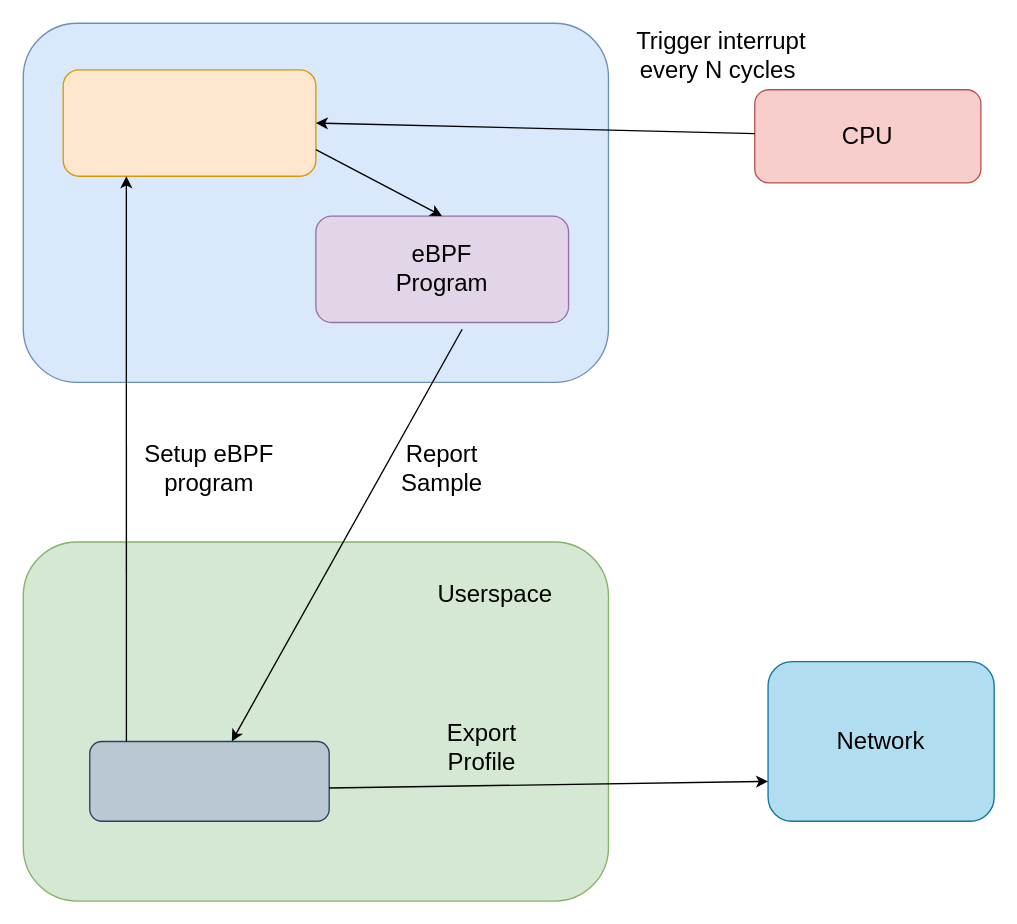
The diagram is 1017 pixels wide and 924 high, and some of its shapes have lost their labels. Each missing label, with the centre of its shape:
"Linux Kernel" goes at [189,122].
"Perforator agent" goes at [208,780].
